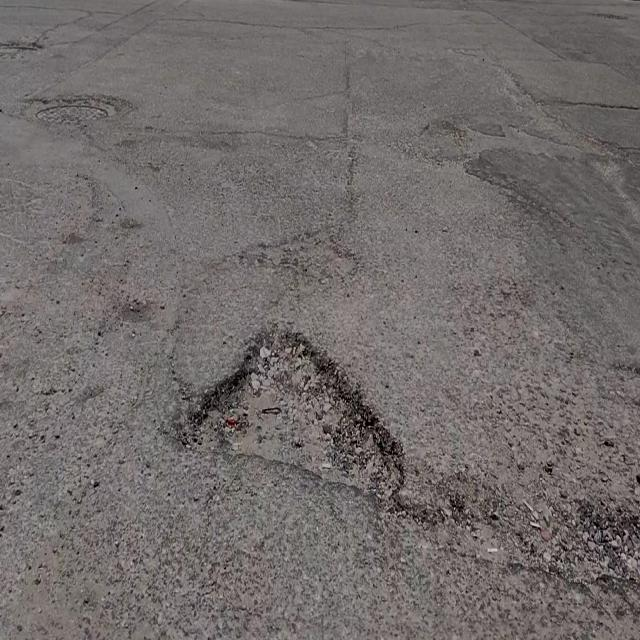Potholes: (184, 316, 401, 502)
